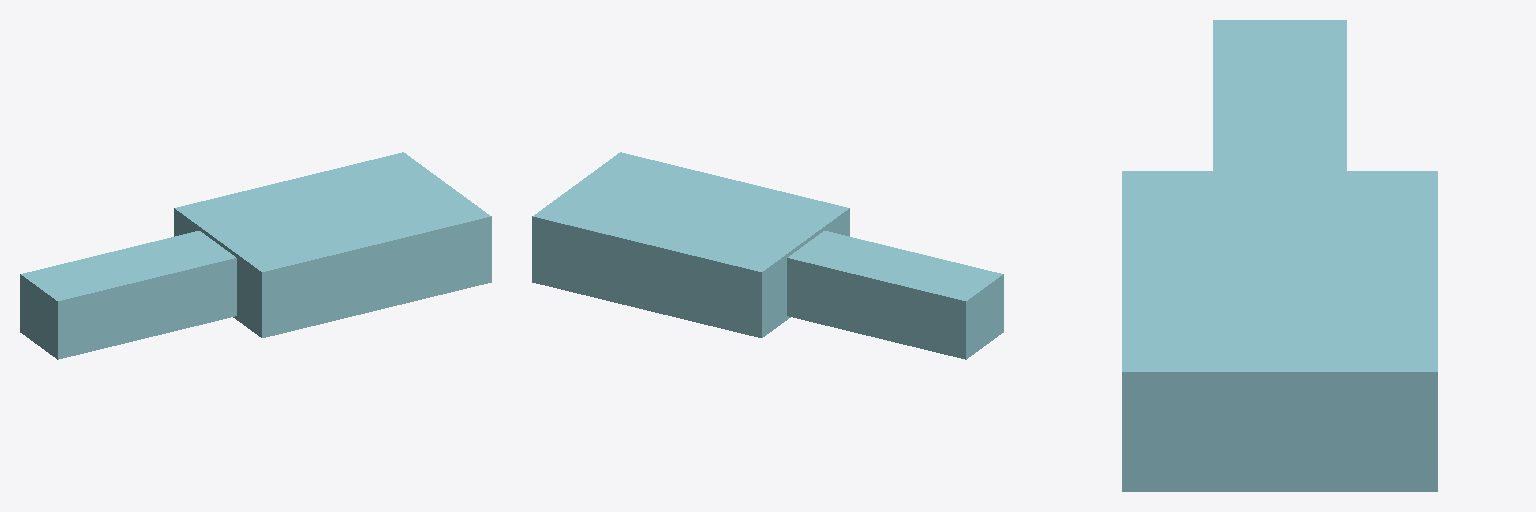
robot.urdf — cuboid_brush_v10012:
<?xml version="1.0"?>
<robot name="cuboid_brush_v10012">

  <link name="cuboid_brush_v10012">
    <!-- Handle -->
    <visual>
      <origin xyz="0 0 0" rpy="0 0 0"/>
      <geometry>
        <box size="0.08678884595348146 0.031307356040079594 0.027026692988044075"/>
      </geometry>
      <material name="material">
        <color rgba="0.639 0.847 0.882 1.0"/>
      </material>
    </visual>
    <collision>
      <origin xyz="0 0 0" rpy="0 0 0"/>
      <geometry>
        <box size="0.08678884595348146 0.031307356040079594 0.027026692988044075"/>
      </geometry>
    </collision>

    <!-- Head -->
    <visual>
      <origin xyz="0.09900455287168575 0 0" rpy="0 0 0"/>
      <geometry>
        <box size="0.11122025978989003 0.07375255020155927 0.03061700788575629"/>
      </geometry>
      <material name="material">
        <color rgba="0.639 0.847 0.882 1.0"/>
      </material>
    </visual>
    <collision>
      <origin xyz="0.09900455287168575 0 0" rpy="0 0 0"/>
      <geometry>
        <box size="0.11122025978989003 0.07375255020155927 0.03061700788575629"/>
      </geometry>
    </collision>

    <inertial>
      <density value="400.0"/>
    </inertial>
  </link>

</robot>

--- What the picture shows (computed from the rendered views, not written in the file) ---
3 views of the same robot in one strip: view 1: azimuth 30°, elevation 25°; view 2: azimuth 150°, elevation 25°; view 3: azimuth 270°, elevation 25° (orthographic).
Model cuboid_brush_v10012 with 1 links and 0 joints (none), rooted at cuboid_brush_v10012, posed all joints at 0.
Links seen in each view (by area): view 1: cuboid_brush_v10012; view 2: cuboid_brush_v10012; view 3: cuboid_brush_v10012.
Boxes of the visible links, left/top/right/bottom form: cuboid_brush_v10012: left=20, top=152, right=491, bottom=359; cuboid_brush_v10012: left=532, top=152, right=1003, bottom=359; cuboid_brush_v10012: left=1122, top=20, right=1437, bottom=491.
Bounding box of the posed robot: 0.198 × 0.0738 × 0.0306 m (x, y, z).
Geometry: primitives only (box / cylinder / sphere), no mesh files.
